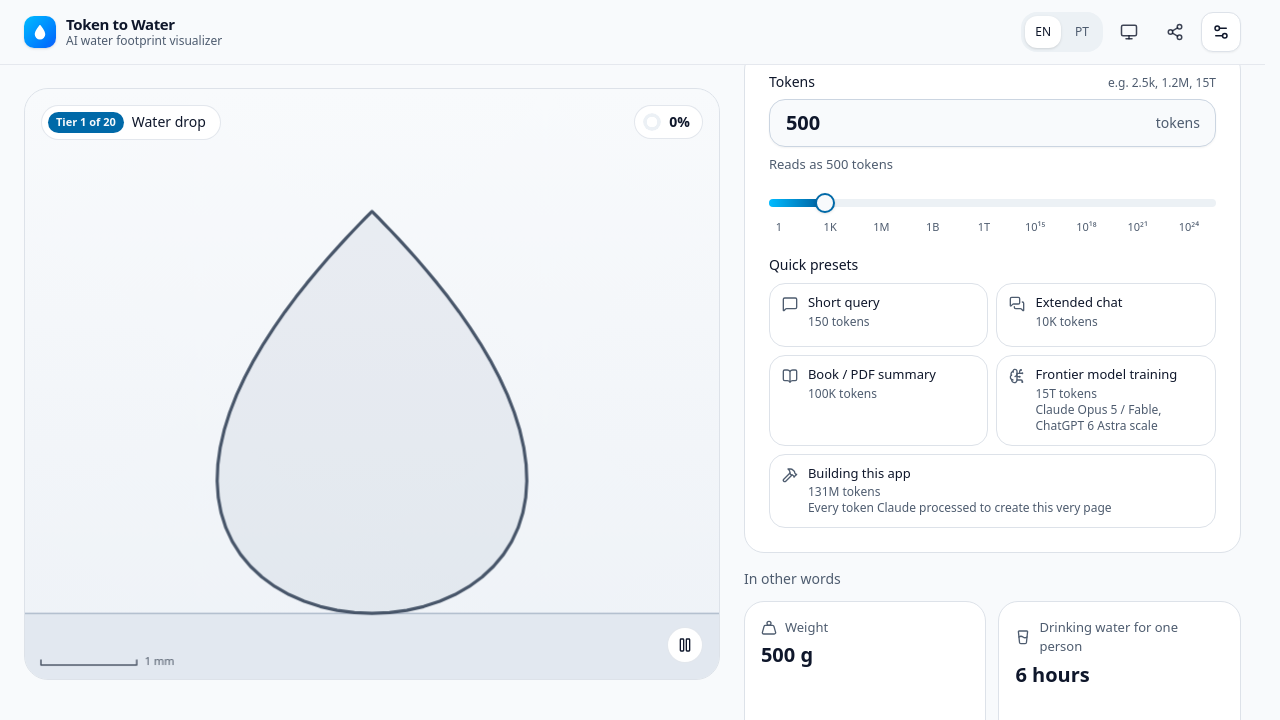
Test: App › reaches frontier-scale training numbers
The image size is (1280, 720).
(page scrolled)
Step 1. Click the button "Frontier model training" → (1106,400), box x1=996 y1=355 x2=1216 y2=446
(page scrolled)
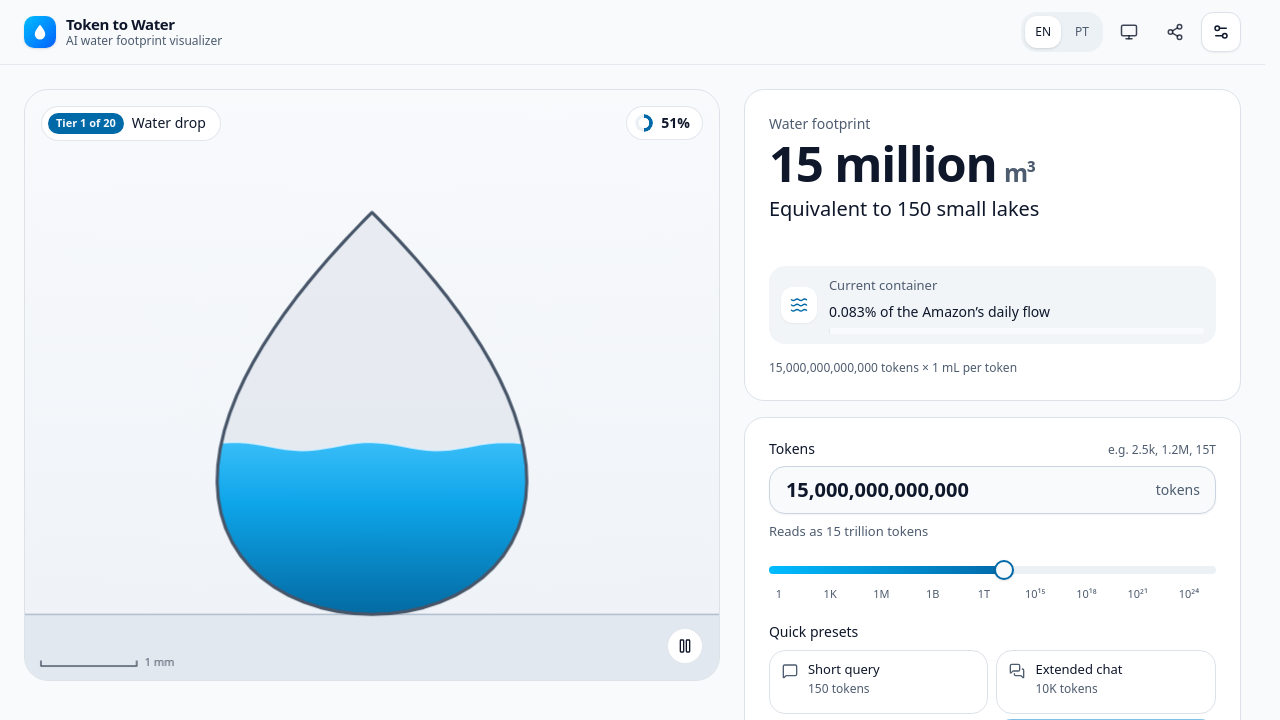
Expected: the element with test id "volume" reads "15 million m³", x1=769 y1=129 x2=1035 y2=196
Expected: the text with test id "equivalence" reads "Equivalent to 150 small lakes", x1=769 y1=195 x2=1039 y2=222
Expected: the text with test id "fill-line" reads "0.083% of the Amazon’s daily flow", x1=829 y1=302 x2=1050 y2=321
